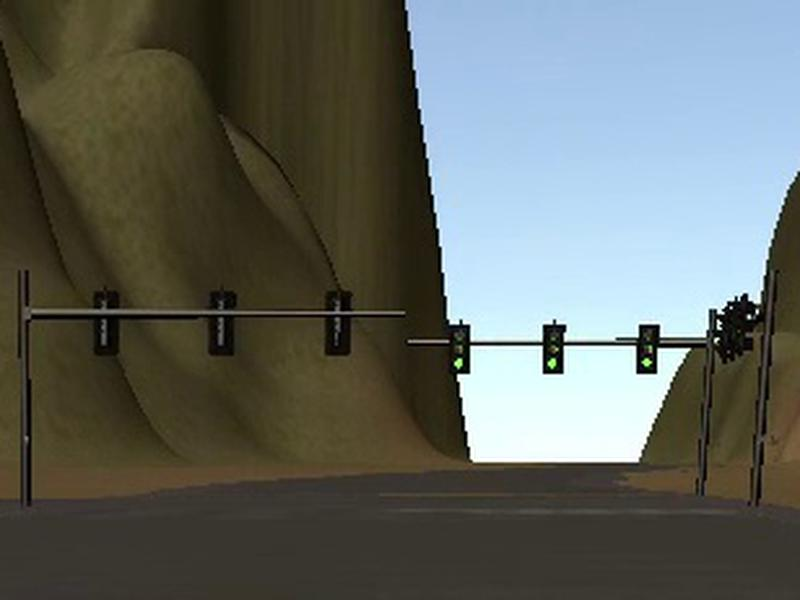Green: (637, 322, 661, 375), (544, 324, 566, 374), (451, 324, 470, 374)
